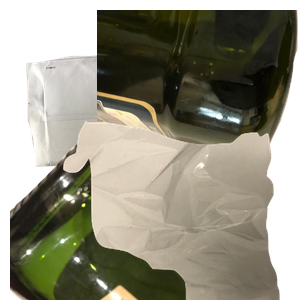glass: (10, 120, 250, 300)
paper: (24, 43, 242, 202)
plastic: (97, 10, 300, 165)
trash: (61, 120, 300, 300)
